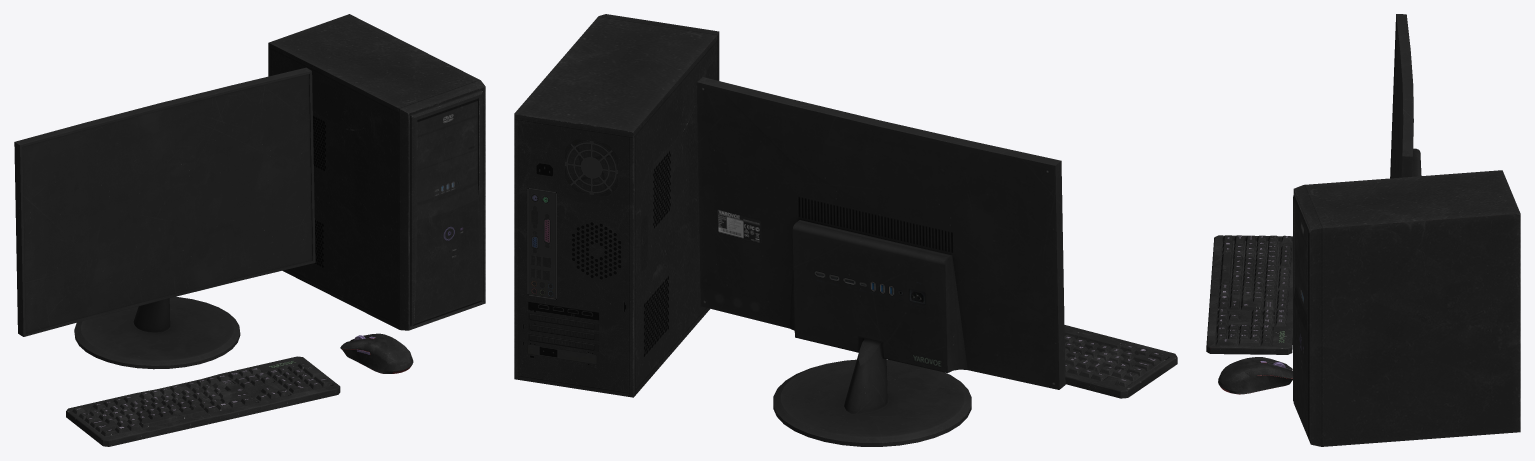
Rendered from pc_setup_-_game_ready.glb.
3 views of the same model, side by side, from view 1: azimuth 30°, elevation 25°; view 2: azimuth 150°, elevation 25°; view 3: azimuth 270°, elevation 25° (orthographic). The views are drawn at different scales.
Visible parts, largest first — view 1: SM_PC_Box_01; view 2: SM_PC_Box_01; view 3: SM_PC_Box_01.
Boxes of the visible parts, x1,y1,x2,y2 form: SM_PC_Box_01: [14, 14, 485, 446]; SM_PC_Box_01: [514, 14, 1177, 446]; SM_PC_Box_01: [1206, 14, 1520, 446].
Size of what is drawn, in the model's own units: 0.9557 by 0.4959 by 0.612.
1 material, 1 textured.
